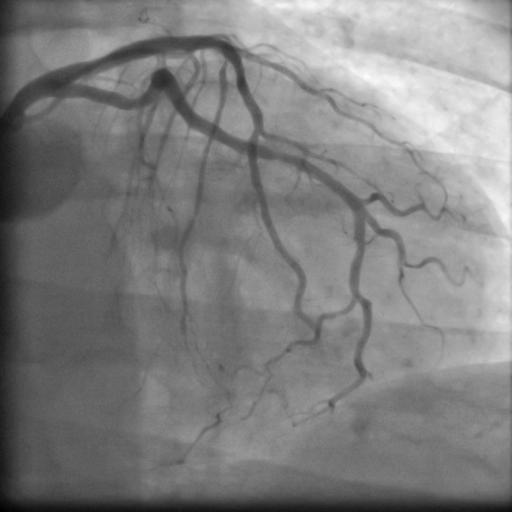Stenosis: (127, 95, 143, 111)
